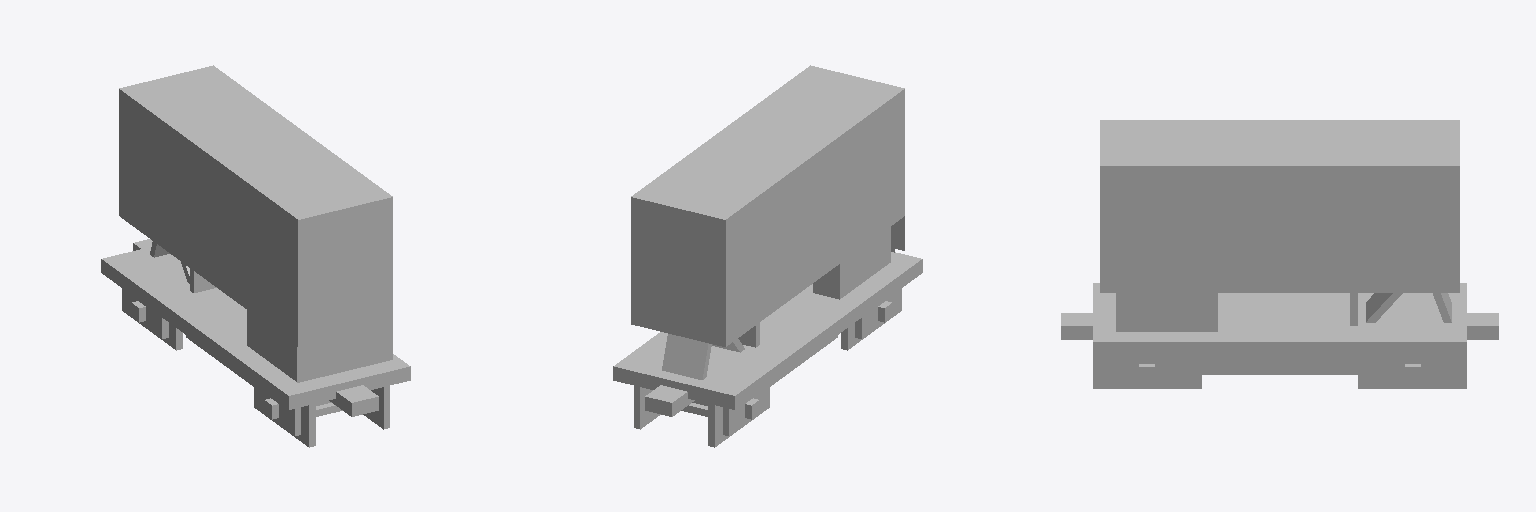
File: ModelFreightTrailer.obj
3 views of the same model, side by side, from view 1: azimuth 30°, elevation 25°; view 2: azimuth 150°, elevation 25°; view 3: azimuth 270°, elevation 25° (orthographic).
Visible parts, largest first — view 1: box49, box41, box24, box18, box9, box32, box4, box31, box; view 2: box49, box41, box18, box11, box43, box4, box32, box2, box3; view 3: box49, box41, box19, box30, box5, box0, box, box3, box9, box43, box12.
Part boxes in pixels (x1,y1,x2,y2): box49: (119, 65, 392, 346); box41: (101, 247, 410, 409); box24: (298, 325, 392, 382); box18: (247, 310, 297, 382); box9: (329, 385, 378, 416); box32: (256, 387, 300, 436); box4: (123, 289, 168, 338); box31: (254, 385, 315, 447); box: (363, 386, 389, 429); box49: (631, 65, 904, 346); box41: (613, 252, 922, 409); box18: (813, 227, 890, 299); box11: (662, 334, 711, 379); box43: (645, 385, 694, 416); box4: (723, 387, 767, 436); box32: (855, 289, 900, 338); box2: (708, 385, 769, 447); box3: (634, 386, 660, 429); box49: (1100, 120, 1459, 292); box41: (1093, 283, 1466, 356); box19: (1116, 293, 1217, 331); box30: (1202, 357, 1357, 374); box5: (1374, 357, 1451, 384); box0: (1108, 357, 1185, 384); box: (1093, 357, 1201, 388); box3: (1358, 357, 1466, 388); box9: (1061, 313, 1092, 339); box43: (1467, 313, 1498, 339); box12: (1366, 293, 1402, 322).
Bounding box in the file's own units: 1.12 × 2 × 3.5.